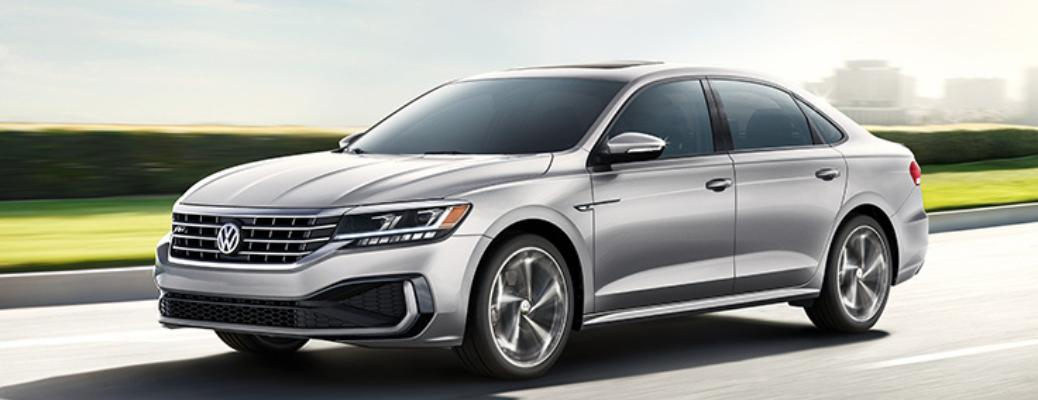car: (150, 56, 938, 370)
